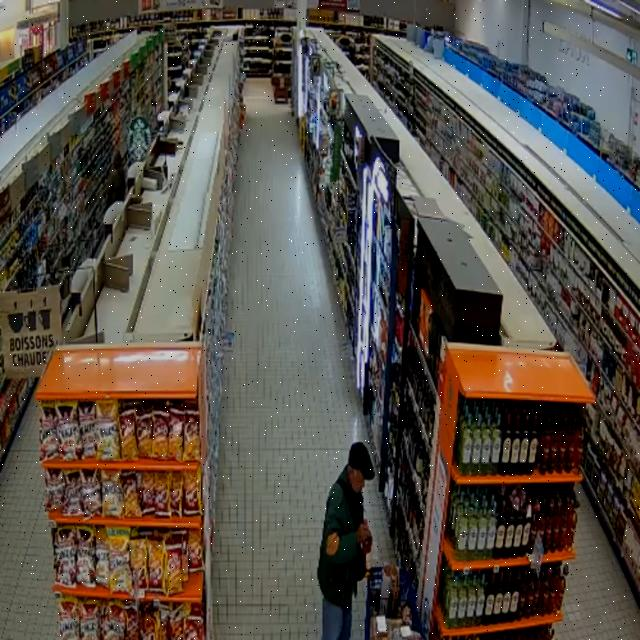article: (362, 535, 372, 578)
hands: (357, 523, 372, 544)
person: (318, 443, 374, 639)
